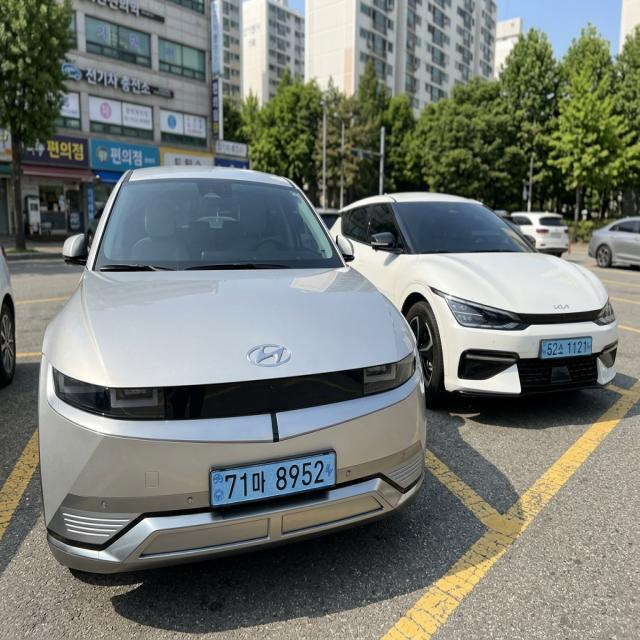car: (185, 445, 369, 518)
carev: (210, 470, 226, 506), (325, 453, 341, 489)
